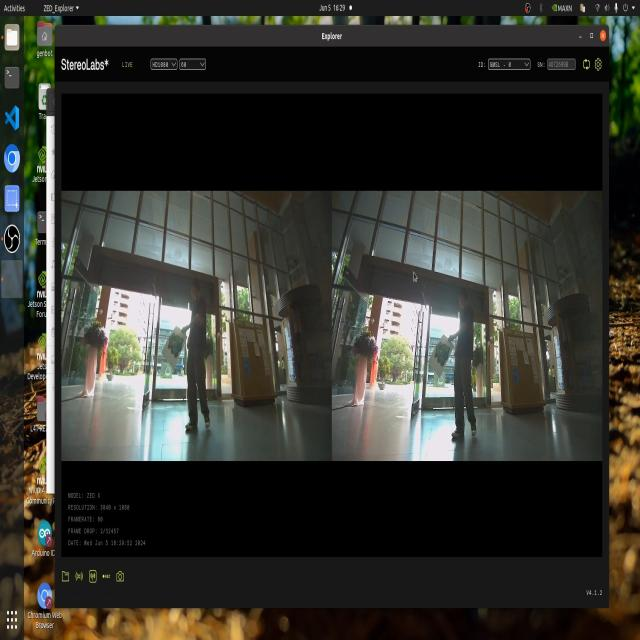green: (172, 334, 194, 368), (430, 337, 444, 370)
